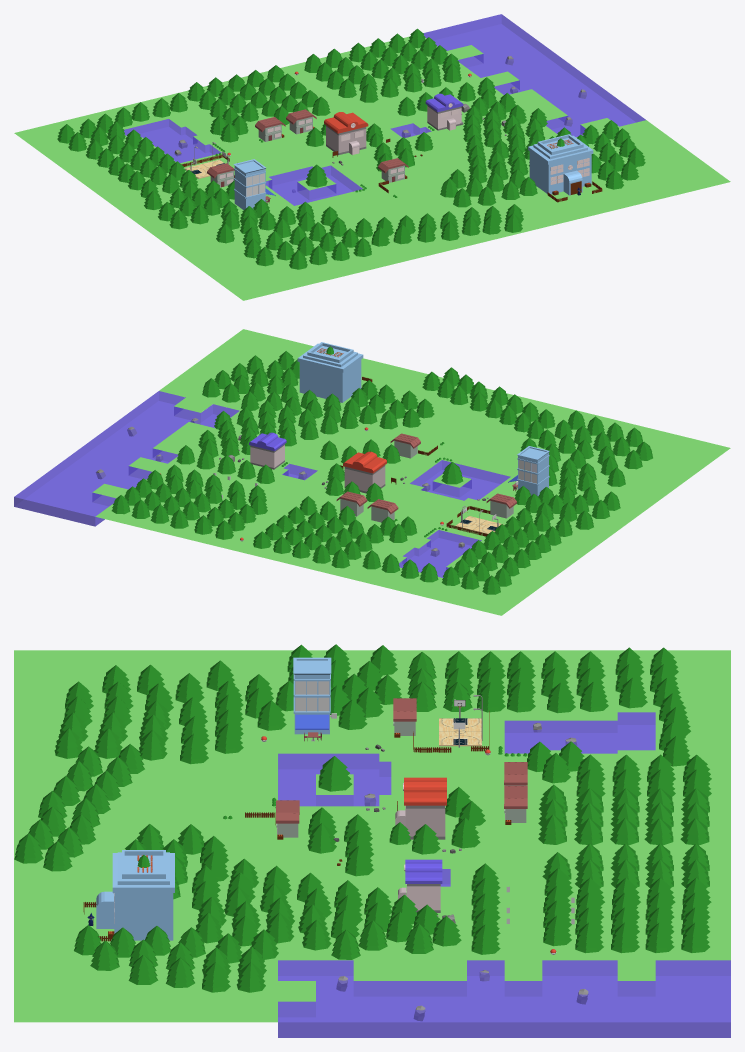
File: new-world.glb
The picture shows the model from 3 angles, top to bottom: view 1: azimuth 30°, elevation 25°; view 2: azimuth 150°, elevation 25°; view 3: azimuth 270°, elevation 25°; orthographic projection. The views are drawn at different scales.
Parts seen in each view (by area): view 1: Plane.004, Plane.007, Cube, Plane.001, Plane.002, Cube.007, Cube.520, Cube.519; view 2: Plane.004, Plane.007, Cube, Plane.001, Plane.002, Cube.007, Cube.519, Cube.520, Cube.544, court; view 3: Plane.004, Plane.007, Cube, Plane.002, Plane.001, Cube.007, court, Cube.520, Cube.519, Cube.543, Cube.544, Cube.166.
Part boxes in pixels (bbox=[...]): Plane.004: bbox=[14, 36, 730, 300]; Plane.007: bbox=[423, 14, 645, 137]; Cube: bbox=[528, 134, 593, 194]; Plane.001: bbox=[265, 165, 362, 205]; Plane.002: bbox=[124, 119, 221, 162]; Cube.007: bbox=[233, 159, 266, 209]; Cube.520: bbox=[324, 112, 368, 133]; Cube.519: bbox=[326, 126, 366, 153]; Plane.004: bbox=[92, 329, 730, 615]; Plane.007: bbox=[14, 391, 239, 526]; Cube: bbox=[297, 342, 363, 402]; Plane.001: bbox=[410, 460, 510, 500]; Plane.002: bbox=[399, 530, 481, 577]; Cube.007: bbox=[517, 446, 549, 496]; Cube.519: bbox=[344, 466, 385, 491]; Cube.520: bbox=[343, 451, 386, 473]; Cube.544: bbox=[250, 445, 284, 467]; court: bbox=[455, 507, 503, 533]; Plane.004: bbox=[14, 650, 730, 1022]; Plane.007: bbox=[278, 960, 730, 1037]; Cube: bbox=[112, 850, 174, 940]; Plane.002: bbox=[504, 712, 655, 753]; Plane.001: bbox=[278, 753, 391, 806]; Cube.007: bbox=[293, 657, 331, 734]; court: bbox=[439, 700, 481, 747]; Cube.520: bbox=[404, 777, 446, 805]; Cube.519: bbox=[405, 808, 445, 836]; Cube.543: bbox=[405, 859, 442, 883]; Cube.544: bbox=[407, 886, 440, 910]; Cube.166: bbox=[96, 891, 114, 928].
Bounding box in the file's own units: 1043 × 138 × 850.
424 materials, 2 textured.
